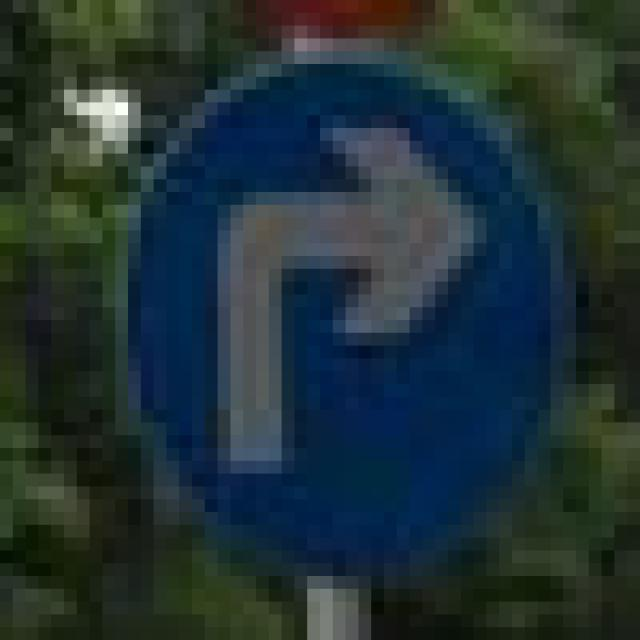railway_crossing: (102, 38, 564, 576)
